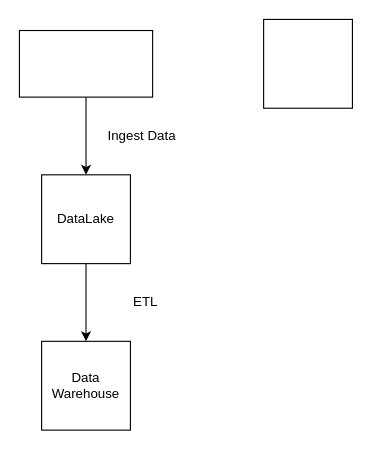
Some shapes in this 372 by 450 pixel diagram are drawn without their labels. The box of each missing label's shape, as (x1, y1, x2, y2) in pixels:
User tương tác với website: (18, 29, 153, 97)
Ứng tuyển: (263, 18, 352, 108)
